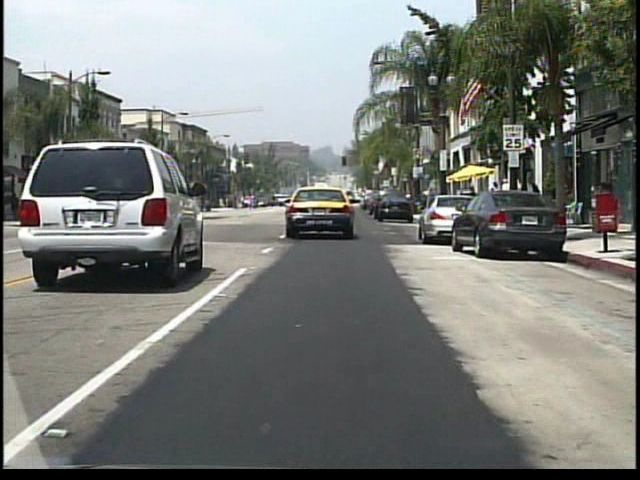person: (517, 171, 540, 227), (524, 177, 539, 218), (501, 177, 516, 216), (513, 181, 526, 218), (489, 179, 503, 213), (268, 191, 276, 207)
